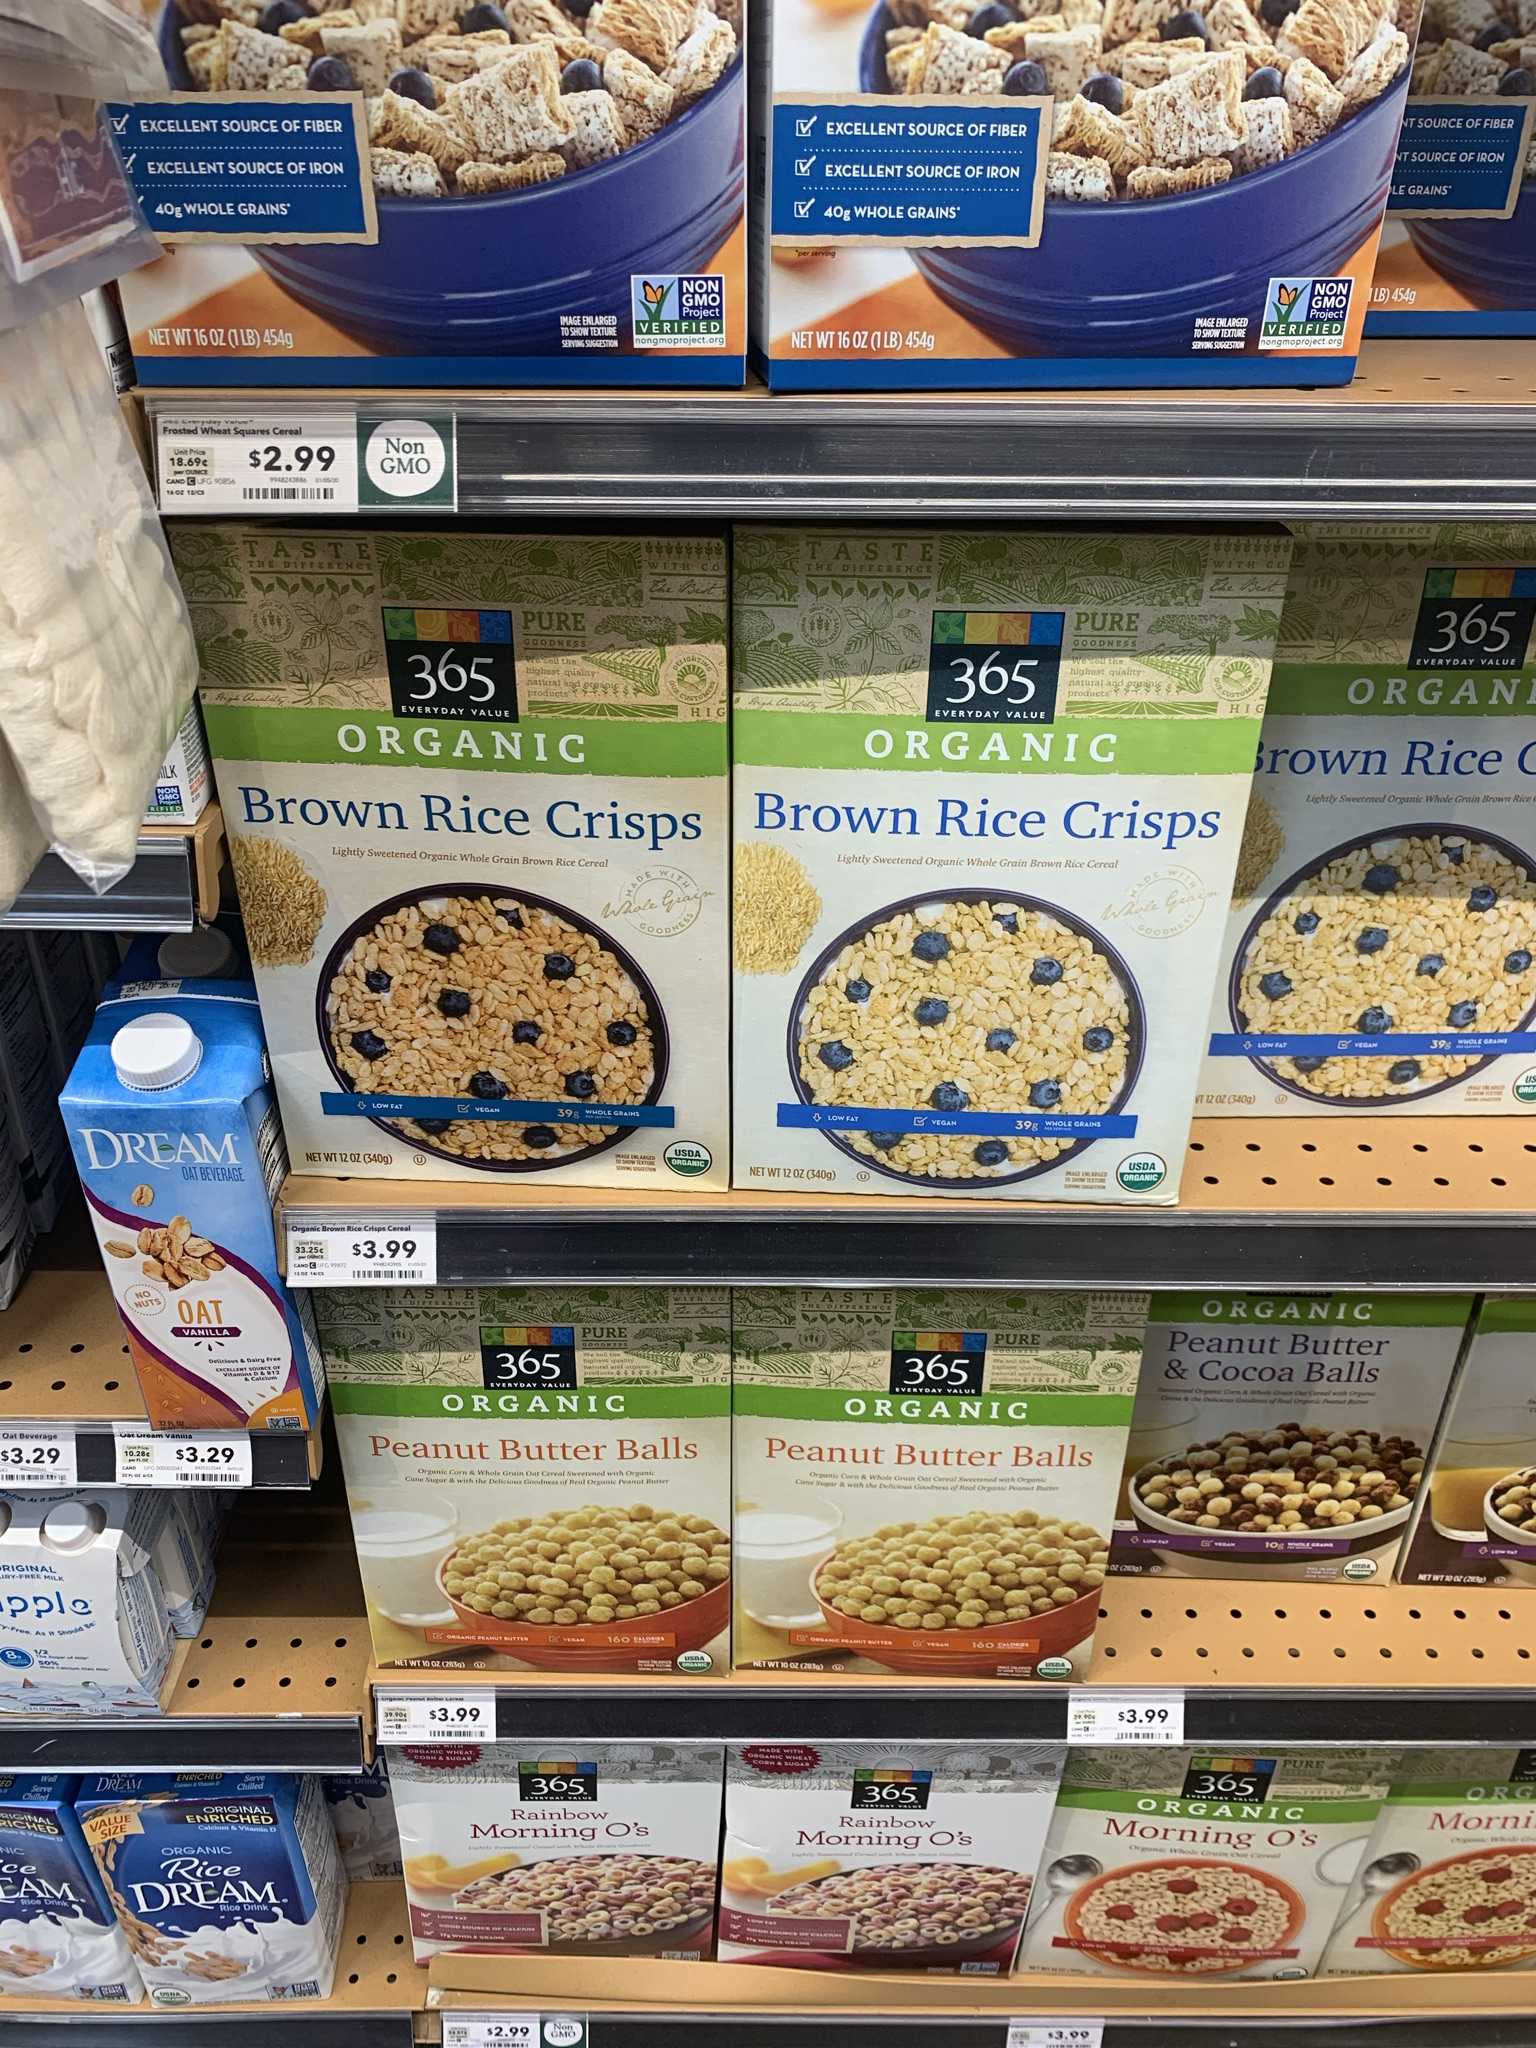Cereal organic: (182, 529, 729, 1197), (752, 540, 1212, 1221), (1288, 540, 1536, 1229), (315, 1309, 728, 1706), (749, 1293, 1137, 1688), (771, 1743, 1028, 2048), (1175, 1300, 1402, 1609), (1099, 1750, 1359, 1995), (449, 1750, 729, 1974)
